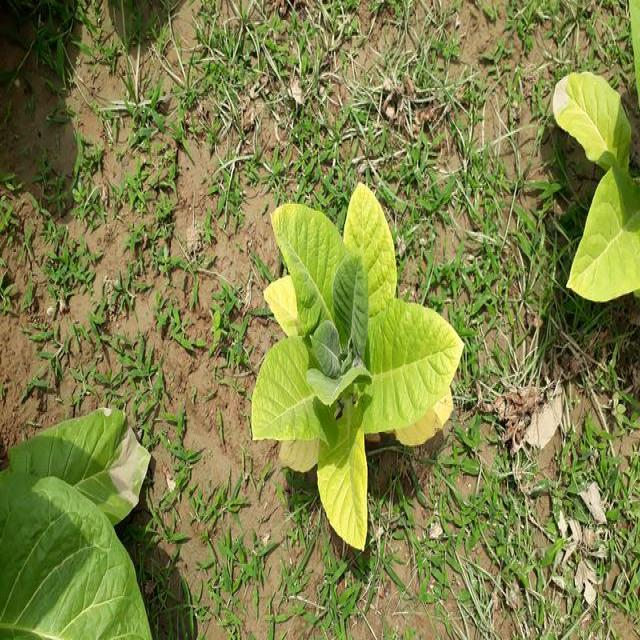crop: (252, 178, 471, 552)
